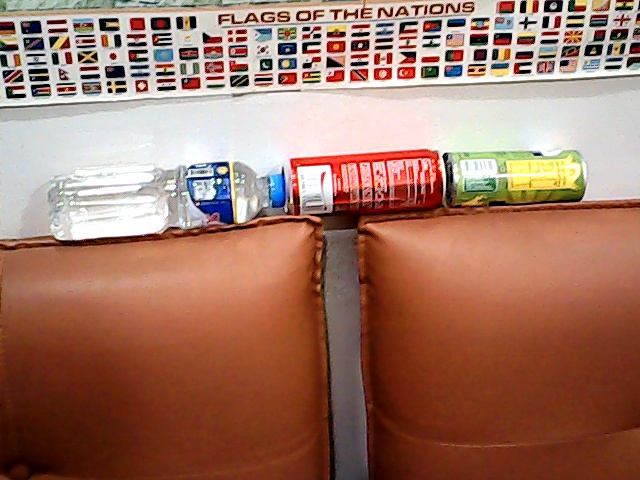Cola: (282, 144, 449, 216)
Pine Juice: (441, 142, 587, 208)
Summit Water: (44, 167, 281, 235)
